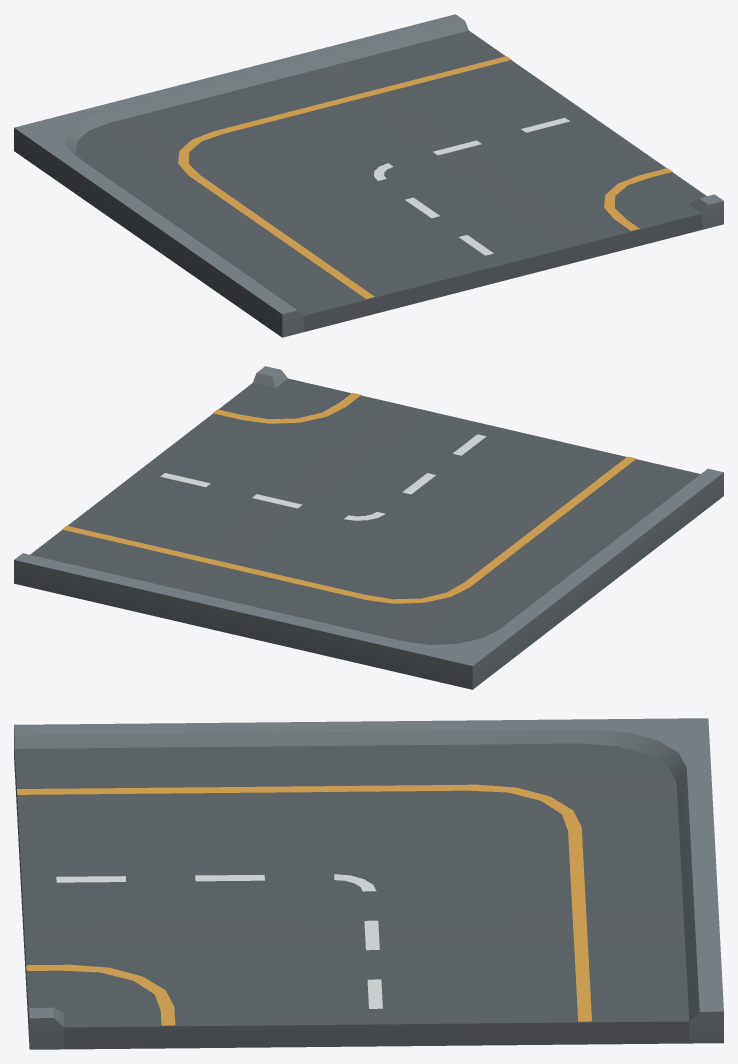
File: roadcorner2_lev3.glb
3 views of the same model, one above another, from view 1: azimuth 30°, elevation 25°; view 2: azimuth 150°, elevation 25°; view 3: azimuth 270°, elevation 25° (orthographic). The views are drawn at different scales.
Visible parts, largest first — view 1: road_corner.001; view 2: road_corner.001; view 3: road_corner.001.
Boxes of the visible parts, bbox=[...] form: road_corner.001: bbox=[14, 14, 723, 337]; road_corner.001: bbox=[14, 366, 723, 689]; road_corner.001: bbox=[14, 718, 723, 1049].
Bounding box in the file's own units: 19.11 × 0.9358 × 19.11.
1 material, 1 textured.
